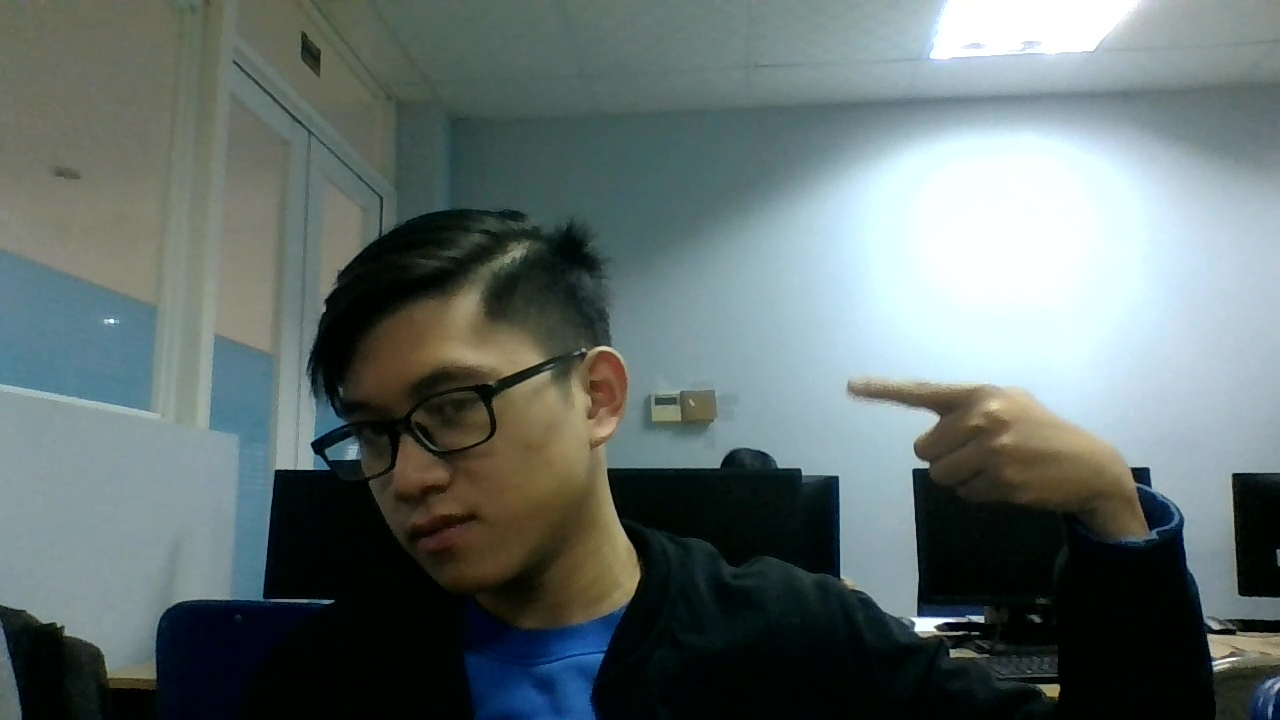right: (835, 361, 1164, 527)
